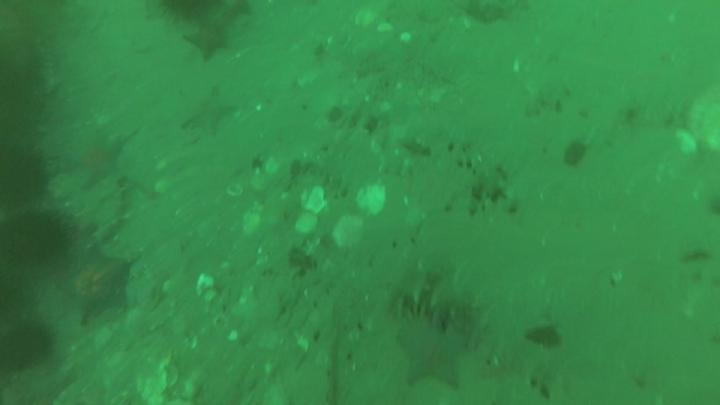echinus: (3, 209, 69, 266), (3, 145, 45, 208), (5, 319, 52, 375)
holothurian: (398, 267, 492, 338)
scallop: (336, 216, 363, 252), (358, 187, 388, 218)
starfish: (56, 250, 131, 328), (402, 339, 465, 387), (180, 84, 235, 133), (77, 132, 123, 189), (186, 22, 231, 61)
